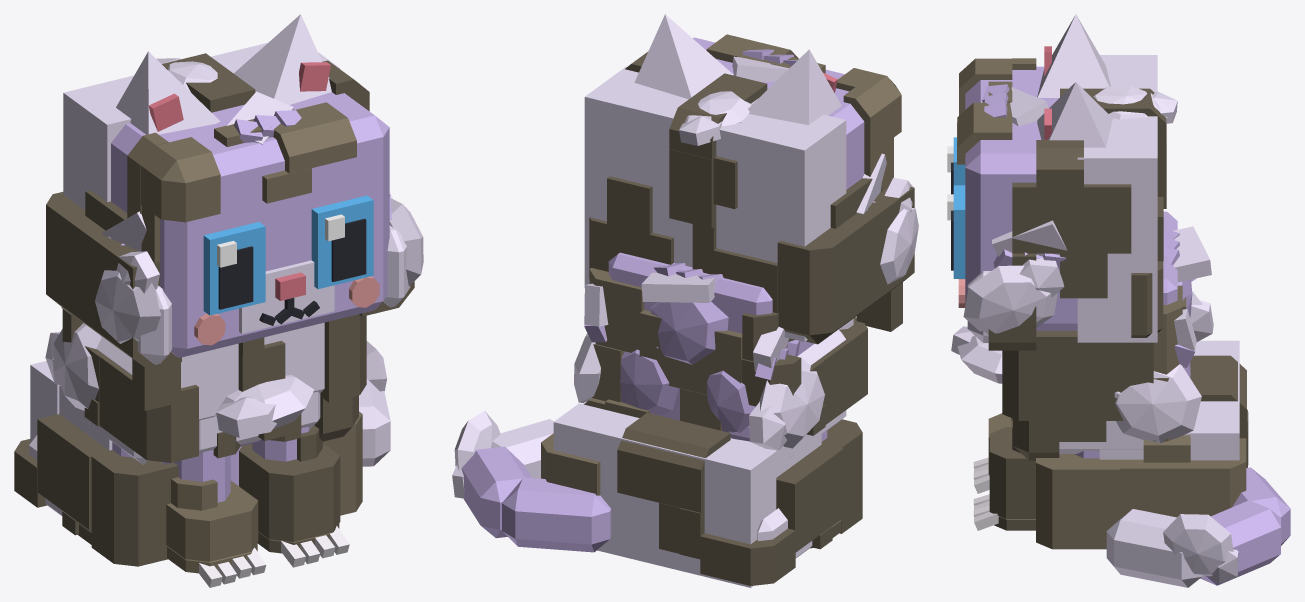
File: CleanACat_Cat_LilacCloud_Dirty_Sit.fbx
The picture shows the model from 3 angles, left to right: view 1: azimuth 30°, elevation 25°; view 2: azimuth 150°, elevation 25°; view 3: azimuth 270°, elevation 25°; orthographic projection. The views are drawn at different scales.
Visible parts, largest first — view 1: CleanACat_Cat_LilacCloud_Dirty_Sit_Head, CleanACat_Cat_LilacCloud_Dirty_Sit_Body, CleanACat_Cat_LilacCloud_Dirty_Sit_Mud01, CleanACat_Cat_LilacCloud_Dirty_Sit_Mud17, CleanACat_Cat_LilacCloud_Dirty_Sit_Mud16, CleanACat_Cat_LilacCloud_Dirty_Sit_Mud06, CleanACat_Cat_LilacCloud_Dirty_Sit_Mud18, CleanACat_Cat_LilacCloud_Dirty_Sit_Mud10, CleanACat_Cat_LilacCloud_Dirty_Sit_Mud14, CleanACat_Cat_LilacCloud_Dirty_Sit_Mud03, CleanACat_Cat_LilacCloud_Dirty_Sit_Eye2, CleanACat_Cat_LilacCloud_Dirty_Sit_Eye1 (+18 smaller); view 2: CleanACat_Cat_LilacCloud_Dirty_Sit_Head, CleanACat_Cat_LilacCloud_Dirty_Sit_Body, CleanACat_Cat_LilacCloud_Dirty_Sit_Mud01, CleanACat_Cat_LilacCloud_Dirty_Sit_Tail, CleanACat_Cat_LilacCloud_Dirty_Sit_Mud13, CleanACat_Cat_LilacCloud_Dirty_Sit_Mud14, CleanACat_Cat_LilacCloud_Dirty_Sit_Mud09, CleanACat_Cat_LilacCloud_Dirty_Sit_Mud04, CleanACat_Cat_LilacCloud_Dirty_Sit_Mud05, CleanACat_Cat_LilacCloud_Dirty_Sit_EarL, CleanACat_Cat_LilacCloud_Dirty_Sit_Fluff06, CleanACat_Cat_LilacCloud_Dirty_Sit_Mud06 (+18 smaller); view 3: CleanACat_Cat_LilacCloud_Dirty_Sit_Head, CleanACat_Cat_LilacCloud_Dirty_Sit_Mud08, CleanACat_Cat_LilacCloud_Dirty_Sit_Mud02, CleanACat_Cat_LilacCloud_Dirty_Sit_Tail, CleanACat_Cat_LilacCloud_Dirty_Sit_Mud12, CleanACat_Cat_LilacCloud_Dirty_Sit_Mud15, CleanACat_Cat_LilacCloud_Dirty_Sit_Body, CleanACat_Cat_LilacCloud_Dirty_Sit_Fluff01, CleanACat_Cat_LilacCloud_Dirty_Sit_Fluff05, CleanACat_Cat_LilacCloud_Dirty_Sit_Mud17, CleanACat_Cat_LilacCloud_Dirty_Sit_Fluff10, CleanACat_Cat_LilacCloud_Dirty_Sit_EarR (+16 smaller).
Boxes of the visible parts, left/top/right/bottom form: CleanACat_Cat_LilacCloud_Dirty_Sit_Head: left=63, top=43, right=410, bottom=364; CleanACat_Cat_LilacCloud_Dirty_Sit_Body: left=29, top=322, right=324, bottom=516; CleanACat_Cat_LilacCloud_Dirty_Sit_Mud01: left=46, top=190, right=181, bottom=410; CleanACat_Cat_LilacCloud_Dirty_Sit_Mud17: left=239, top=425, right=340, bottom=553; CleanACat_Cat_LilacCloud_Dirty_Sit_Mud16: left=78, top=451, right=178, bottom=566; CleanACat_Cat_LilacCloud_Dirty_Sit_Mud06: left=127, top=132, right=220, bottom=262; CleanACat_Cat_LilacCloud_Dirty_Sit_Mud18: left=166, top=477, right=258, bottom=573; CleanACat_Cat_LilacCloud_Dirty_Sit_Mud10: left=84, top=346, right=198, bottom=462; CleanACat_Cat_LilacCloud_Dirty_Sit_Mud14: left=14, top=414, right=113, bottom=535; CleanACat_Cat_LilacCloud_Dirty_Sit_Mud03: left=214, top=102, right=356, bottom=203; CleanACat_Cat_LilacCloud_Dirty_Sit_Eye2: left=203, top=222, right=265, bottom=315; CleanACat_Cat_LilacCloud_Dirty_Sit_Eye1: left=311, top=195, right=373, bottom=289; CleanACat_Cat_LilacCloud_Dirty_Sit_Head: left=584, top=37, right=864, bottom=341; CleanACat_Cat_LilacCloud_Dirty_Sit_Body: left=553, top=252, right=853, bottom=587; CleanACat_Cat_LilacCloud_Dirty_Sit_Mud01: left=713, top=178, right=914, bottom=344; CleanACat_Cat_LilacCloud_Dirty_Sit_Tail: left=461, top=419, right=611, bottom=552; CleanACat_Cat_LilacCloud_Dirty_Sit_Mud13: left=617, top=412, right=730, bottom=559; CleanACat_Cat_LilacCloud_Dirty_Sit_Mud14: left=700, top=443, right=843, bottom=585; CleanACat_Cat_LilacCloud_Dirty_Sit_Mud09: left=586, top=268, right=742, bottom=430; CleanACat_Cat_LilacCloud_Dirty_Sit_Mud04: left=669, top=73, right=767, bottom=274; CleanACat_Cat_LilacCloud_Dirty_Sit_Mud05: left=589, top=176, right=673, bottom=278; CleanACat_Cat_LilacCloud_Dirty_Sit_EarL: left=634, top=14, right=733, bottom=99; CleanACat_Cat_LilacCloud_Dirty_Sit_Fluff06: left=749, top=358, right=824, bottom=450; CleanACat_Cat_LilacCloud_Dirty_Sit_Mud06: left=836, top=68, right=901, bottom=191; CleanACat_Cat_LilacCloud_Dirty_Sit_Head: left=958, top=55, right=1157, bottom=342; CleanACat_Cat_LilacCloud_Dirty_Sit_Mud08: left=1002, top=331, right=1153, bottom=460; CleanACat_Cat_LilacCloud_Dirty_Sit_Mud02: left=988, top=140, right=1131, bottom=350; CleanACat_Cat_LilacCloud_Dirty_Sit_Tail: left=1106, top=467, right=1290, bottom=587; CleanACat_Cat_LilacCloud_Dirty_Sit_Mud12: left=1120, top=432, right=1246, bottom=518; CleanACat_Cat_LilacCloud_Dirty_Sit_Mud15: left=1036, top=454, right=1119, bottom=549; CleanACat_Cat_LilacCloud_Dirty_Sit_Body: left=1059, top=211, right=1239, bottom=460; CleanACat_Cat_LilacCloud_Dirty_Sit_Fluff01: left=963, top=258, right=1064, bottom=334; CleanACat_Cat_LilacCloud_Dirty_Sit_Fluff05: left=1114, top=364, right=1201, bottom=443; CleanACat_Cat_LilacCloud_Dirty_Sit_Mud17: left=989, top=420, right=1035, bottom=530; CleanACat_Cat_LilacCloud_Dirty_Sit_Fluff10: left=1163, top=514, right=1238, bottom=583; CleanACat_Cat_LilacCloud_Dirty_Sit_EarR: left=1037, top=14, right=1110, bottom=97.
Bounding box in the file's own units: 1.43 × 1.85 × 1.27.
1 material, 1 textured.
